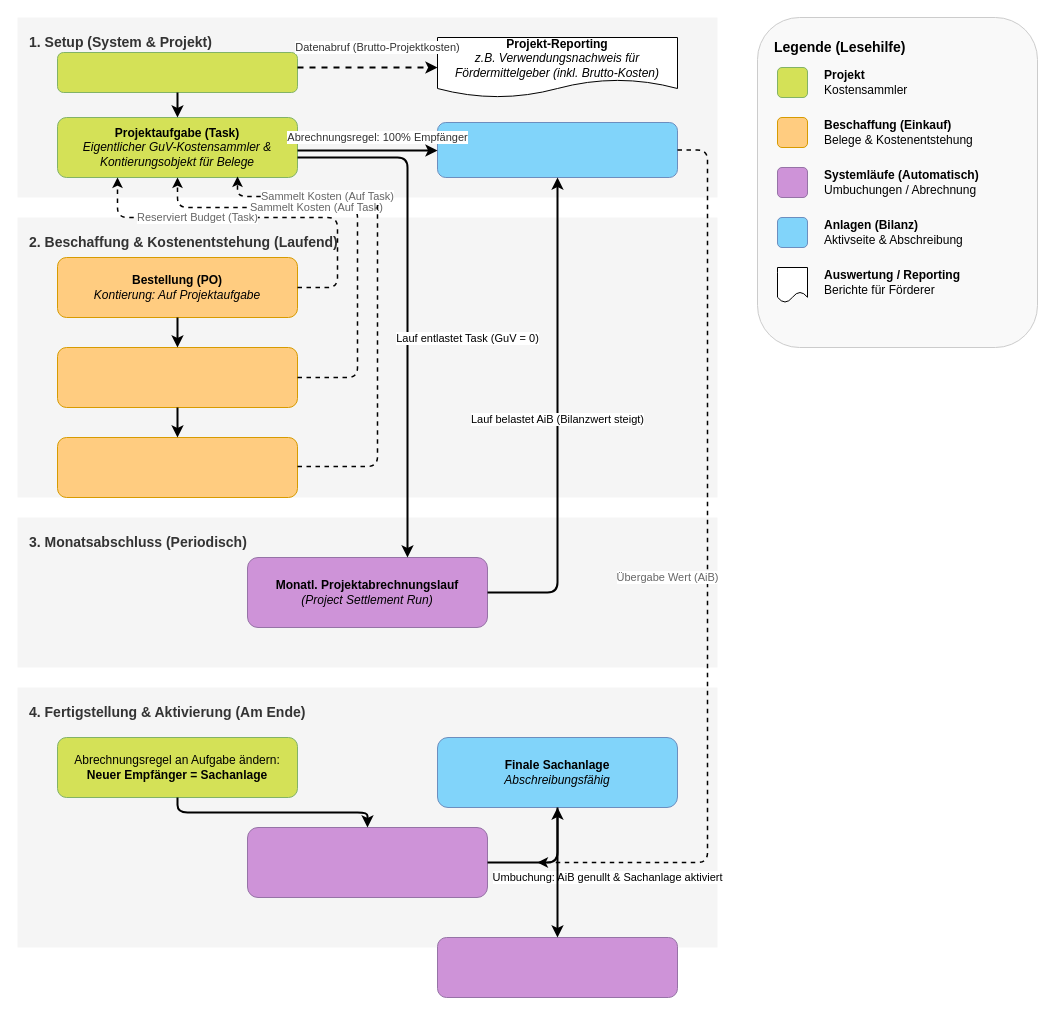
This 1055x1015 diagram has some shape labels left out. The centre of each missing label's shape, as x and y in pixels:
Anlage im Bau (AiB) Bilanz: Aktivseite: the point at 557,150
Anzahlungsanforderung Bucht als Aufwand/Anzahlung: the point at 177,377
Finaler Projektabrechnungslauf (Vollumbuchung): the point at 367,862
Investitionsprojekt (Kopf) Übergreifender Rahmen: the point at 177,72
Lieferanten-Endrechnung Bucht als Aufwand: the point at 177,467
Monatliche Abschreibung (AfA) Regulärer GuV-Aufwand: the point at 557,967
